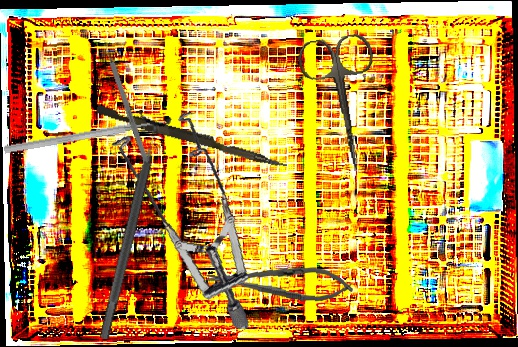Fixation Ring: (85, 109, 174, 343)
Hook Surgical: (101, 37, 151, 169)
Iris Scissors: (295, 31, 392, 178)
Needle Holder: (204, 258, 355, 306)
Pusher: (94, 104, 290, 170), (3, 115, 172, 156)
Speculum: (84, 100, 282, 331)
